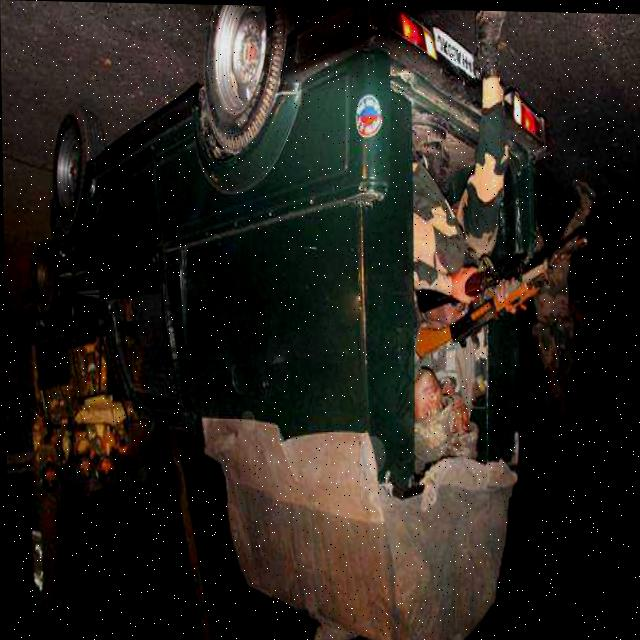plate: (432, 22, 485, 75)
